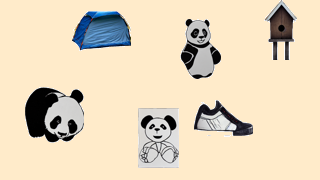帐篷: (69, 8, 132, 51)
房子: (262, 0, 296, 62)
熊猫: (23, 85, 85, 145), (177, 16, 222, 80), (136, 106, 180, 167)
鞋: (191, 98, 254, 137)
